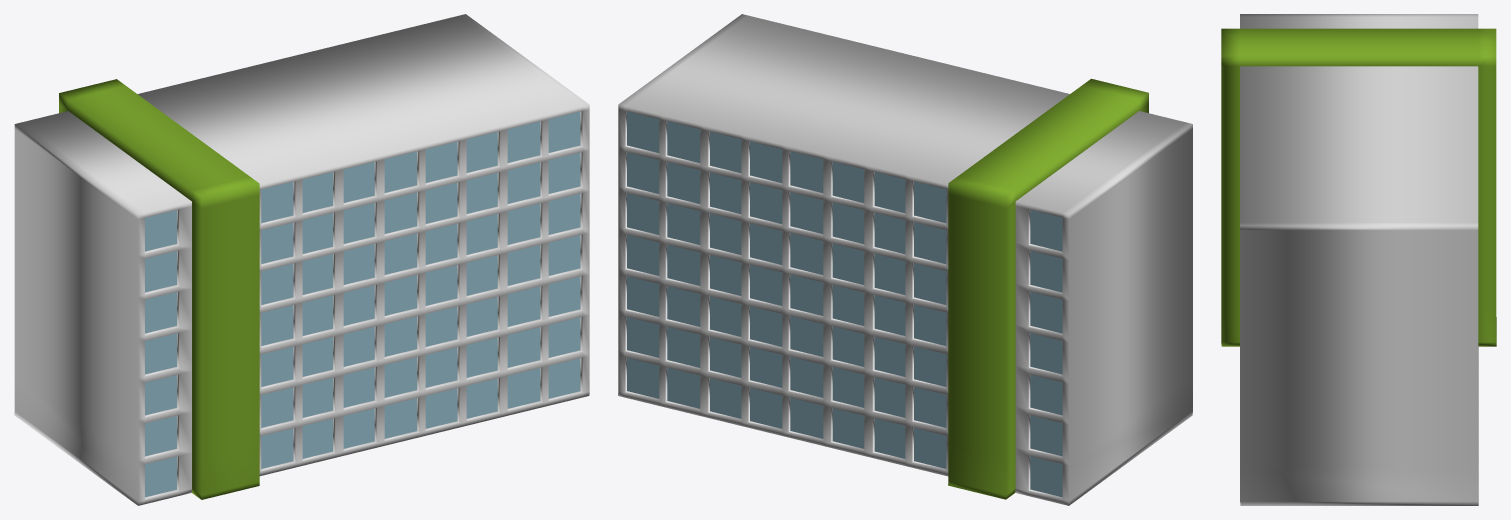
Rendered from small_building_green.fbx.
The picture shows the model from 3 angles, left to right: view 1: azimuth 30°, elevation 25°; view 2: azimuth 150°, elevation 25°; view 3: azimuth 270°, elevation 25°; orthographic projection. The views are drawn at different scales.
Parts seen in each view (by area): view 1: Cube, Cube_001, Cube_002; view 2: Cube, Cube_001, Cube_002; view 3: Cube, Cube_002.
Part boxes in pixels (left/top/right/bottom): Cube: left=14, top=14, right=589, bottom=505; Cube_001: left=145, top=112, right=580, bottom=497; Cube_002: left=59, top=79, right=259, bottom=499; Cube: left=618, top=14, right=1192, bottom=505; Cube_001: left=627, top=111, right=1062, bottom=497; Cube_002: left=948, top=78, right=1148, bottom=499; Cube: left=1240, top=14, right=1478, bottom=505; Cube_002: left=1221, top=28, right=1496, bottom=346.
Size of the model in its own units: 33 by 21.13 by 18.14.
